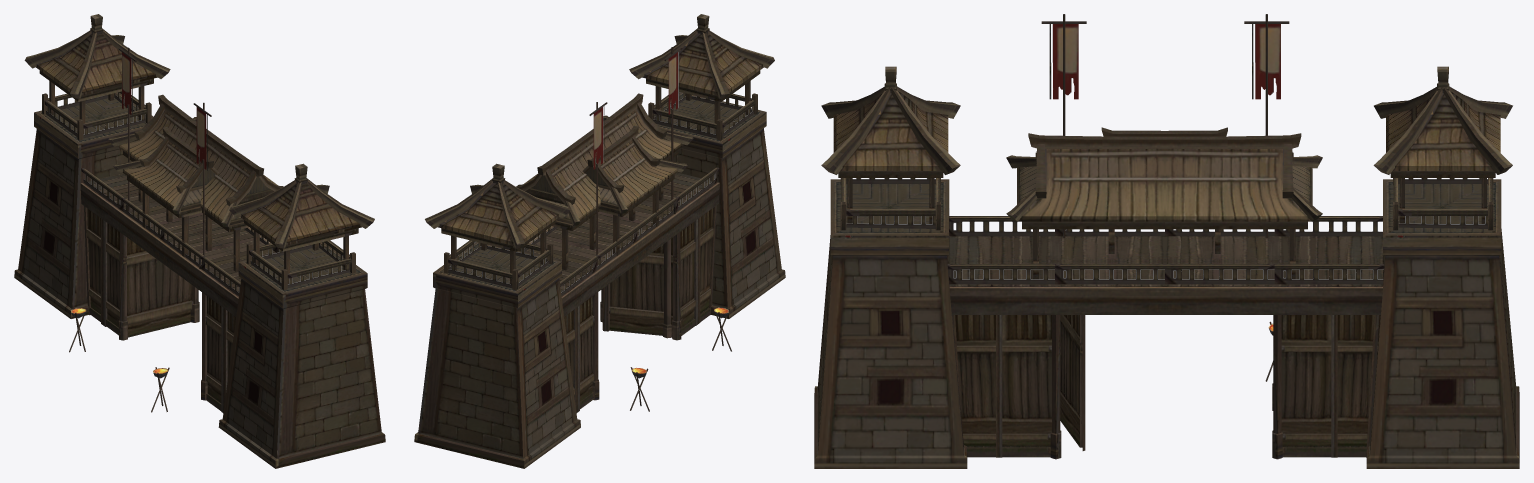
Rendered from s7_pve_fight_castlesdoor.FBX.
The picture shows the model from 3 angles, left to right: view 1: azimuth 30°, elevation 25°; view 2: azimuth 150°, elevation 25°; view 3: azimuth 270°, elevation 25°; orthographic projection. The views are drawn at different scales.
Visible parts, largest first — view 1: s7_pve_fight_castlesdoor; view 2: s7_pve_fight_castlesdoor; view 3: s7_pve_fight_castlesdoor.
Boxes of the visible parts, x1,y1,x2,y2 form: s7_pve_fight_castlesdoor: (14,14,385,468); s7_pve_fight_castlesdoor: (414,14,785,468); s7_pve_fight_castlesdoor: (814,14,1519,468).
Bounding box in the file's own units: 87.17 × 167 × 269.
